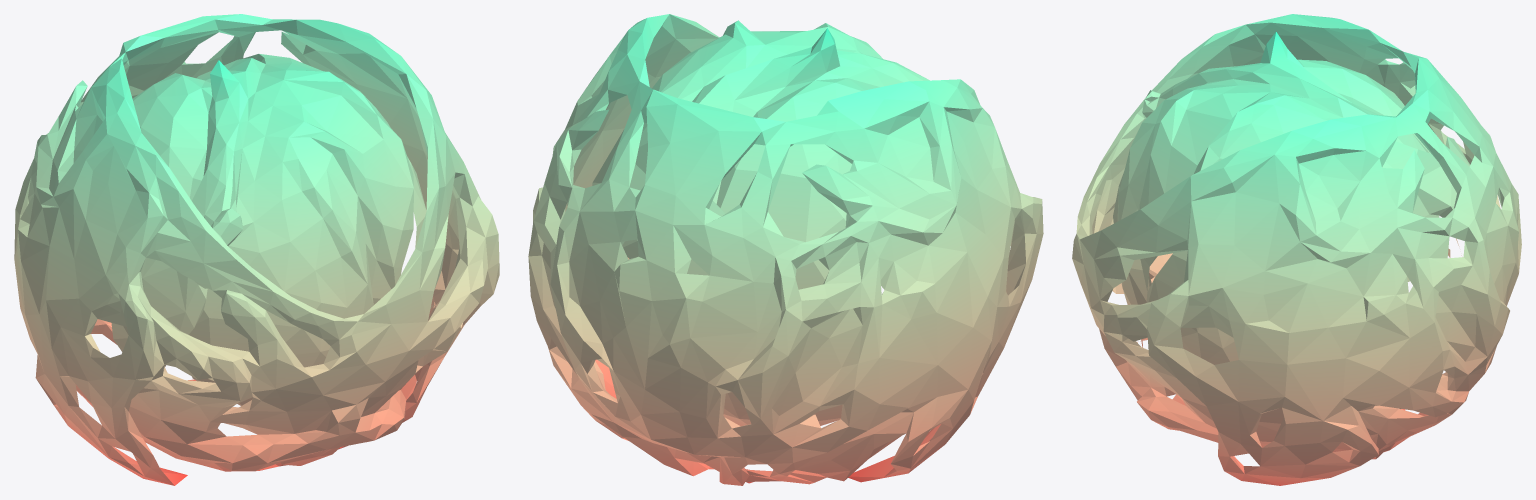
File: 54_cyb_laser_gradient_fish_scales_2989_2026_10_03_52a30b.glb
3 views of the same model, side by side, from view 1: azimuth 30°, elevation 25°; view 2: azimuth 150°, elevation 25°; view 3: azimuth 270°, elevation 25° (orthographic). The views are drawn at different scales.
Visible parts, largest first — view 1: geometry_0; view 2: geometry_0; view 3: geometry_0.
Boxes of the visible parts, box(x1,y1,x2,y2) form: geometry_0: box(14, 14, 499, 485); geometry_0: box(528, 14, 1043, 485); geometry_0: box(1072, 14, 1521, 485).
Bounding box in the file's own units: 0.9699 × 0.9628 × 0.9832.
